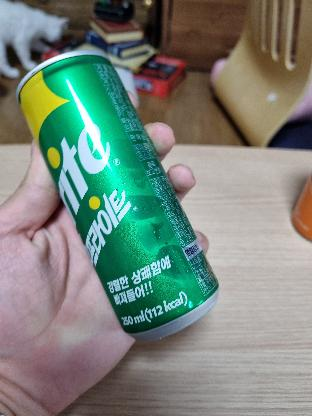Can: (23, 55, 219, 333)
